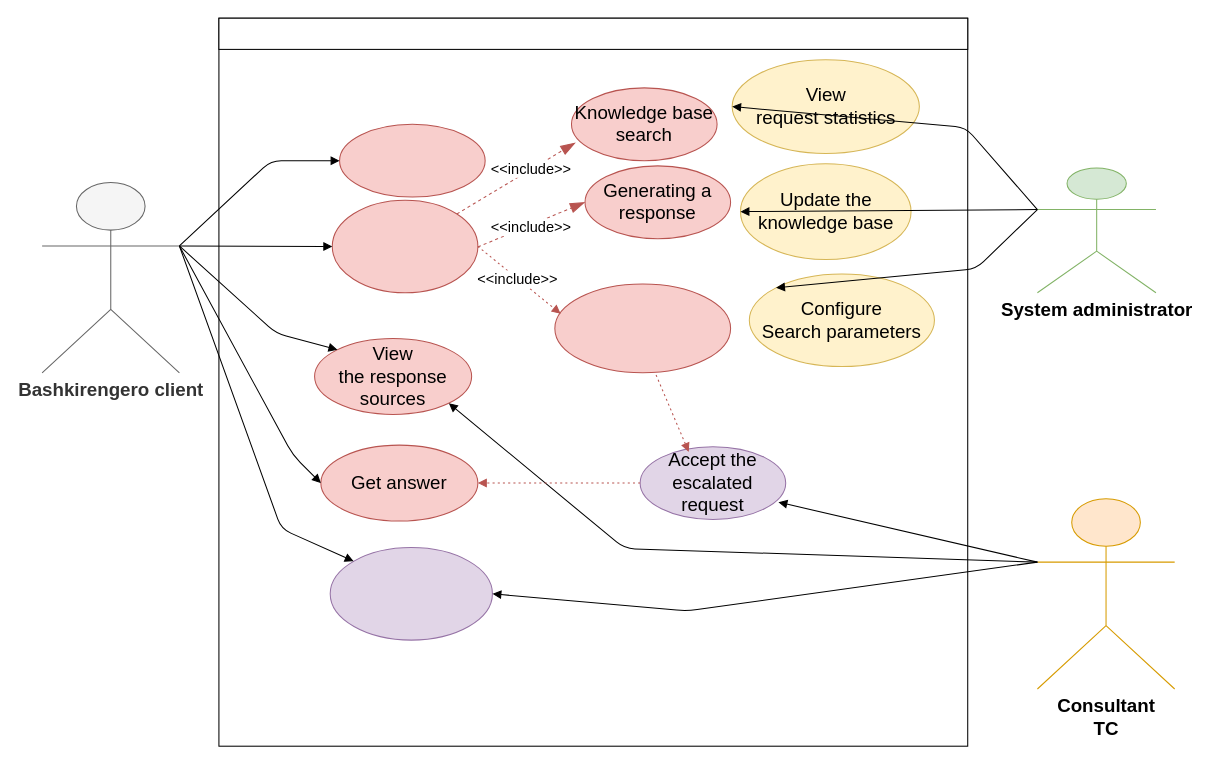
Image size: 1210x764. Some labels were removed from this diagram. The centre of each missing label's shape, as x and y in pixels:
Broadcast request to the expert: point (642, 328)
Give feedback: point (412, 160)
Intelligent assistant: point (593, 33)
Make a request: point (404, 246)
View the dialog history: point (410, 593)
